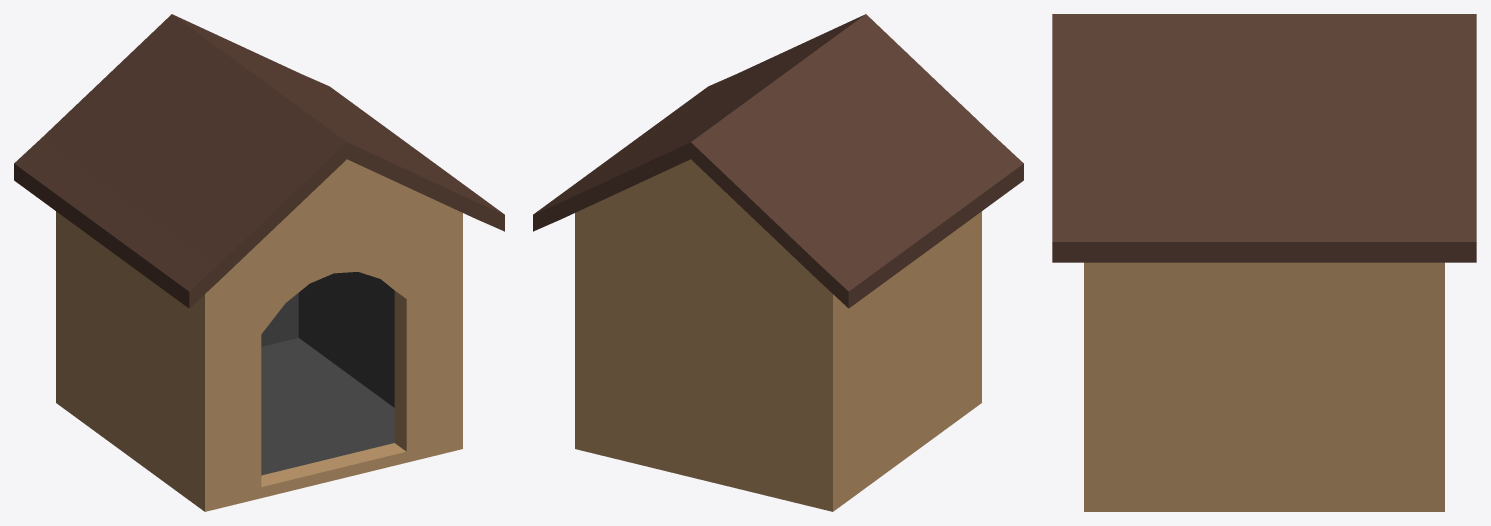
Rendered from BertHouse02.glb.
3 views of the same model, side by side, from view 1: azimuth 30°, elevation 25°; view 2: azimuth 150°, elevation 25°; view 3: azimuth 270°, elevation 25° (orthographic). The views are drawn at different scales.
Visible parts, largest first — view 1: BertHouse; view 2: BertHouse; view 3: BertHouse.
Boxes of the visible parts, x1=… form: BertHouse: x1=14, y1=14, x2=504, y2=511; BertHouse: x1=533, y1=14, x2=1023, y2=511; BertHouse: x1=1052, y1=14, x2=1476, y2=511.
Bounding box in the file's own units: 2.45 × 2.58 × 2.35.
